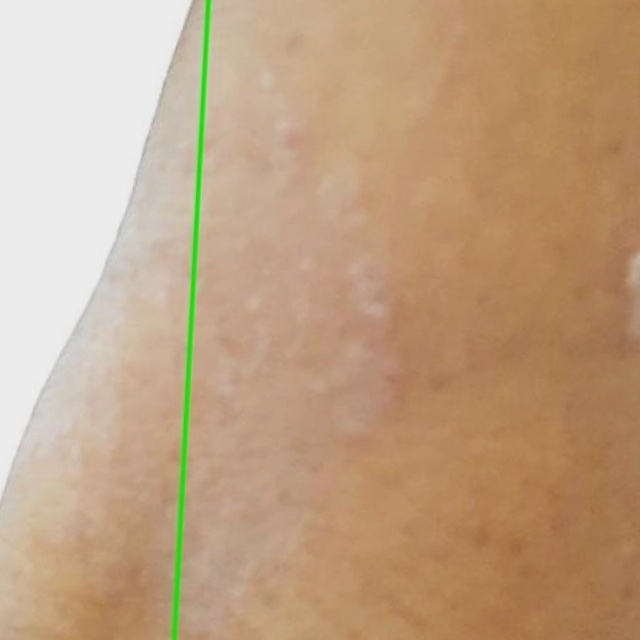Tinea Corporis: (0, 0, 208, 639)
